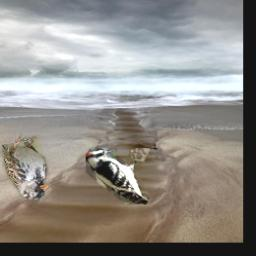Sparrow: (2, 134, 49, 199)
Woodpecker: (85, 149, 149, 206)
